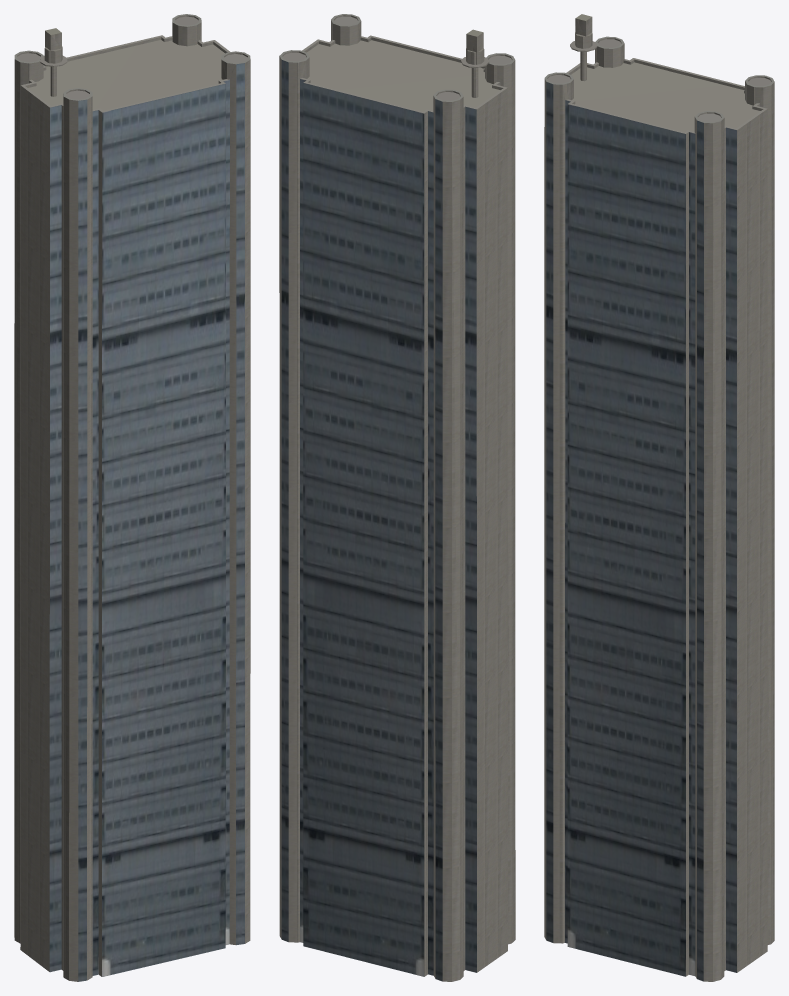
3 views of the same model, side by side, from view 1: azimuth 30°, elevation 25°; view 2: azimuth 150°, elevation 25°; view 3: azimuth 330°, elevation 25° (orthographic). The views are drawn at different scales.
Visible parts, largest first — view 1: PICKERING OPERATIONS COMPLEX; view 2: PICKERING OPERATIONS COMPLEX; view 3: PICKERING OPERATIONS COMPLEX.
Boxes of the visible parts, left/top/right/bottom form: PICKERING OPERATIONS COMPLEX: left=14, top=14, right=250, bottom=981; PICKERING OPERATIONS COMPLEX: left=279, top=14, right=515, bottom=981; PICKERING OPERATIONS COMPLEX: left=544, top=14, right=774, bottom=981.
Size of the model in its own units: 42.71 by 196 by 25.77.
2 materials, 2 textured.
